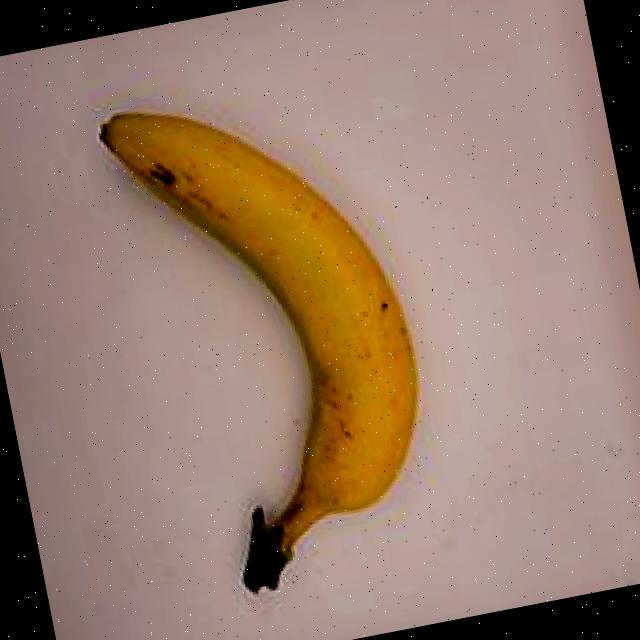Ripe: (46, 31, 483, 640)
